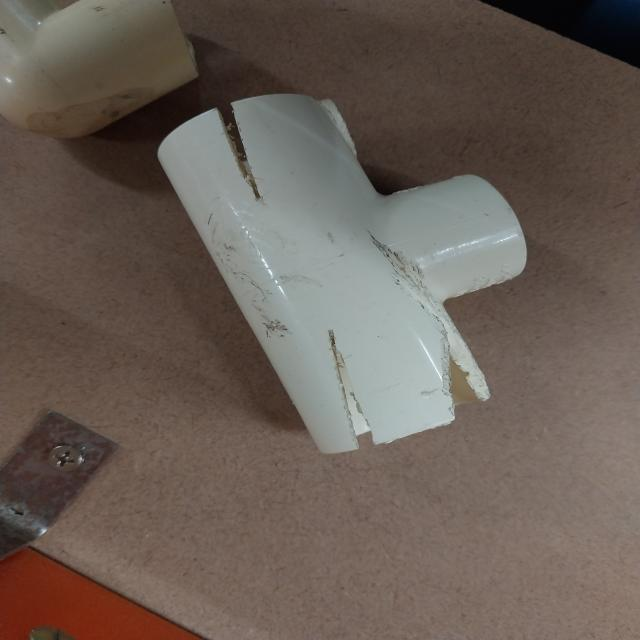Defective: (323, 316, 388, 454), (214, 106, 275, 208)
T Joint: (158, 97, 525, 462)
